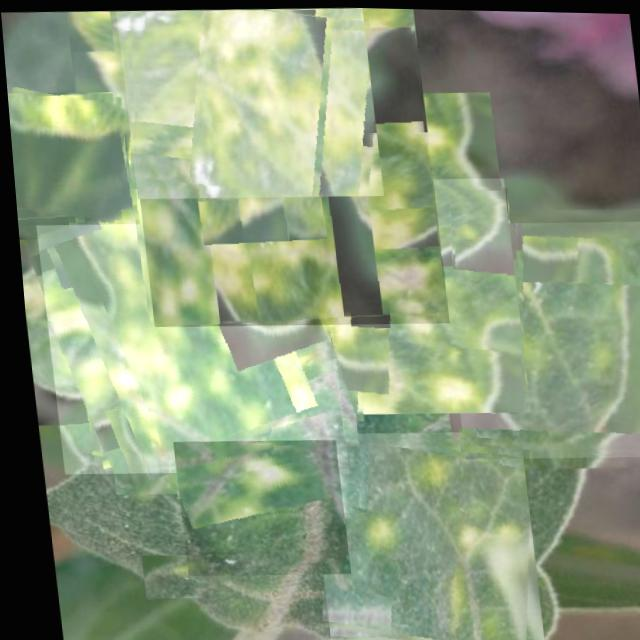leaf_spot: (119, 19, 444, 330), (27, 179, 341, 478), (272, 171, 524, 417), (115, 2, 380, 201), (433, 213, 640, 459), (299, 424, 534, 640), (159, 368, 358, 516), (165, 434, 342, 577), (6, 88, 135, 226), (77, 373, 180, 471), (131, 551, 208, 598)
